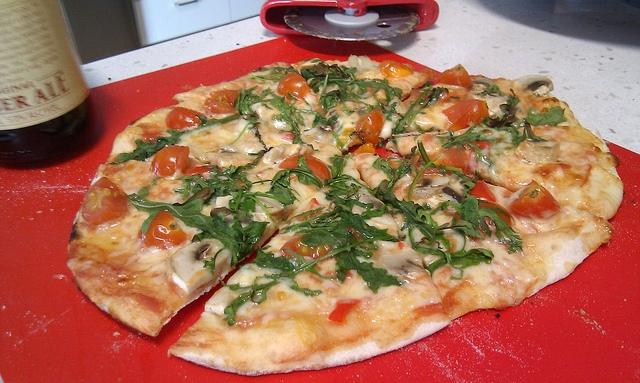mushroom: (170, 239, 232, 296), (380, 252, 425, 276), (263, 143, 314, 164), (514, 74, 554, 98), (412, 176, 452, 198), (210, 206, 246, 218), (361, 194, 385, 210), (442, 186, 463, 203), (471, 78, 495, 92), (216, 194, 234, 208)
tomato: (454, 200, 515, 242), (150, 145, 214, 179), (138, 210, 192, 250), (82, 177, 127, 225), (508, 179, 561, 218), (442, 99, 492, 131), (280, 233, 334, 259), (278, 154, 330, 180), (426, 144, 469, 174), (355, 110, 384, 144), (166, 106, 206, 130), (277, 72, 311, 100), (204, 90, 240, 116), (327, 299, 363, 323), (438, 64, 473, 88), (378, 61, 414, 78), (470, 180, 494, 202), (462, 141, 490, 152), (145, 132, 159, 142)
